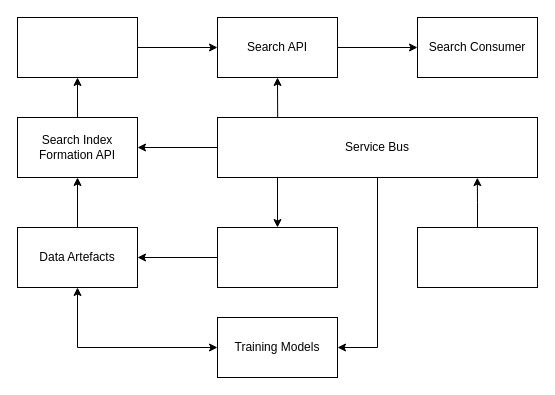
Image size: 555x395. Some labels were removed from this diagram. The shapes that lost their labels are listed below. From the top down, each one's centre as x and y in pixels, then its label:
(77,47): OpenSearch API
(277,257): Service Projector
(477,257): Service API
